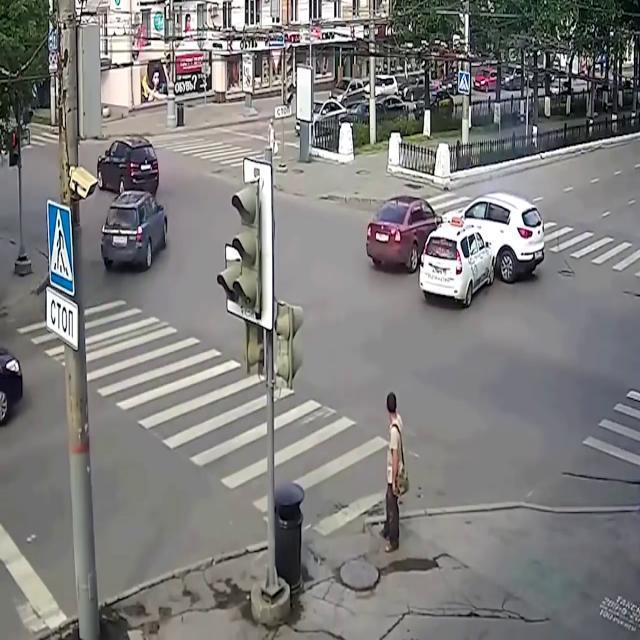car Accident: (364, 168, 566, 326)
